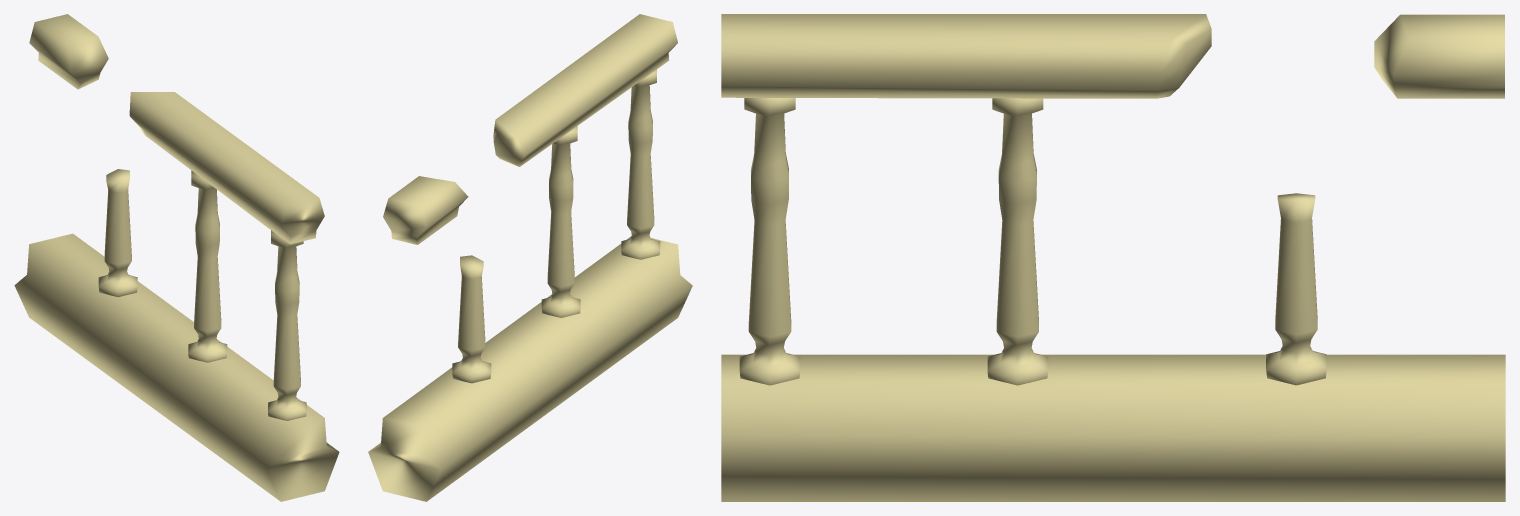
File: Wood_Baluster_03_lod0.fbx
The picture shows the model from 3 angles, left to right: view 1: azimuth 30°, elevation 25°; view 2: azimuth 150°, elevation 25°; view 3: azimuth 270°, elevation 25°; orthographic projection. The views are drawn at different scales.
Visible parts, largest first — view 1: Wood_Baluster_03_lod0; view 2: Wood_Baluster_03_lod0; view 3: Wood_Baluster_03_lod0.
Boxes of the visible parts, x1,y1,x2,y2 form: Wood_Baluster_03_lod0: [14, 14, 339, 501]; Wood_Baluster_03_lod0: [368, 14, 692, 501]; Wood_Baluster_03_lod0: [721, 14, 1505, 501].
Bounding box in the file's own units: 25.19 × 96.83 × 150.
